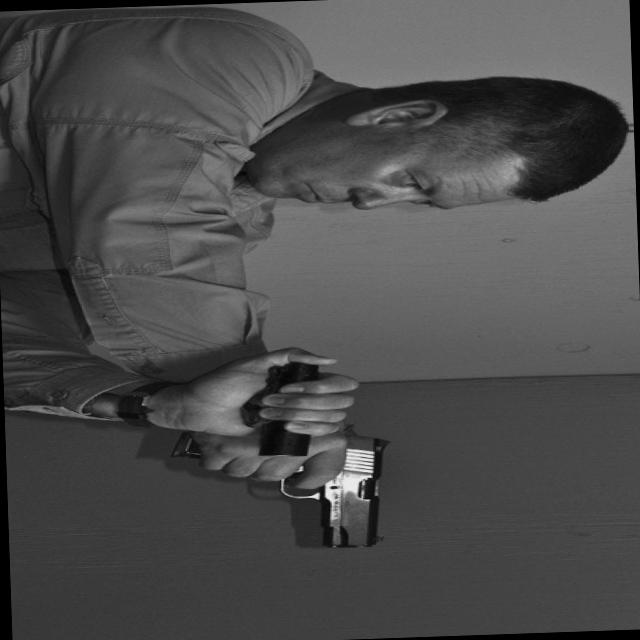handgun: (160, 405, 410, 555)
